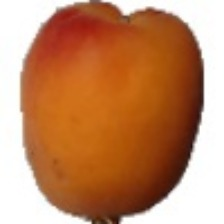apricot: (0, 12, 193, 201)
